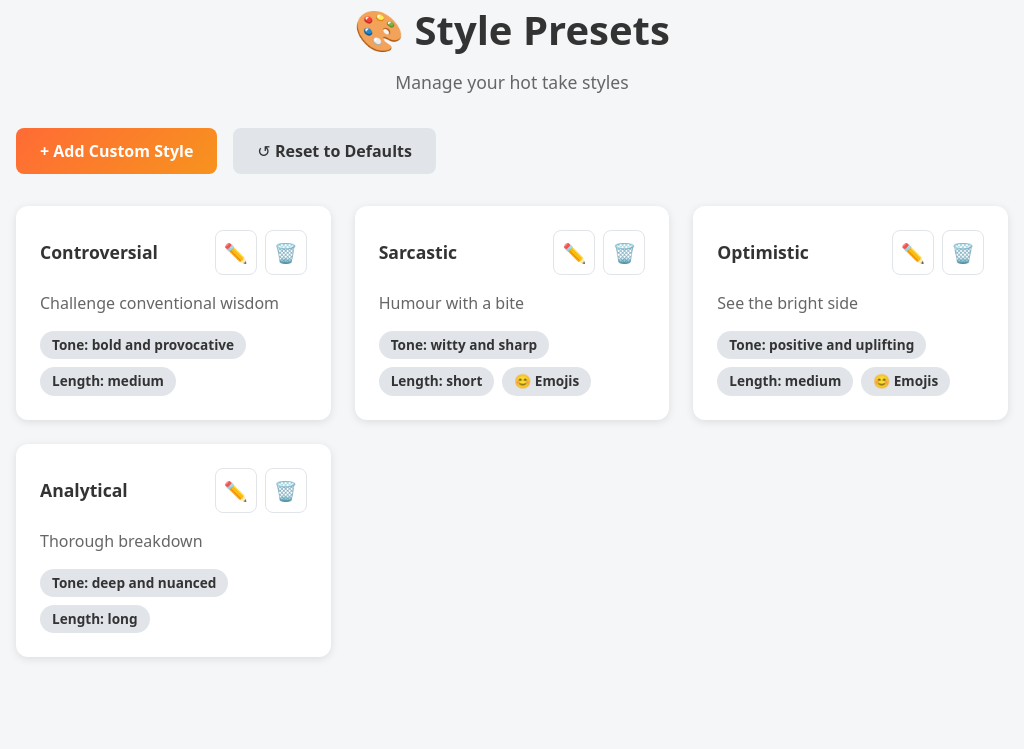
Test case: StylesPage › shows form when add custom style button is clicked
Click the button "+ Add Custom Style": [117, 151] box [16,128,217,174]
(page scrolled)
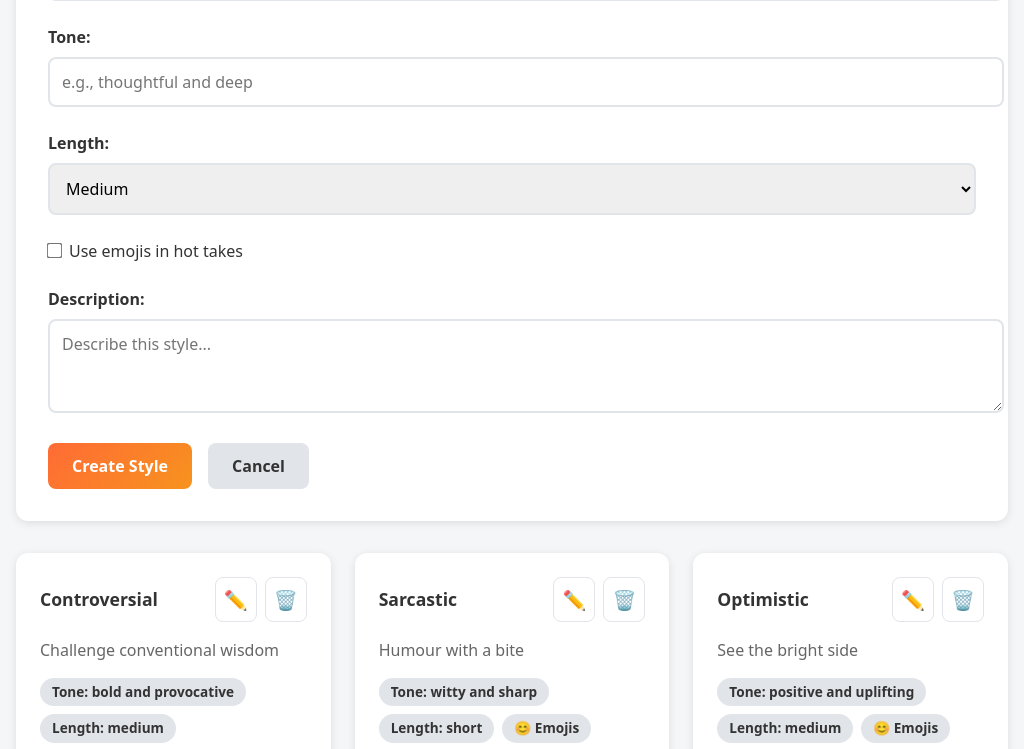
Expected: the field labelled "Tone:" is shown, [48,57,1004,107]
Expected: the dropdown labelled "Length:" is shown, [48,163,976,215]
Expected: the checkbox labelled "Use emojis in hot takes" is shown, [47,243,62,259]
